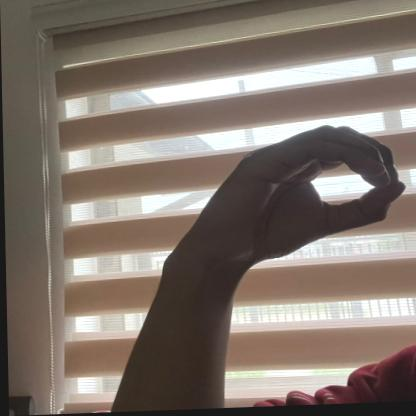O: (206, 119, 410, 275)
